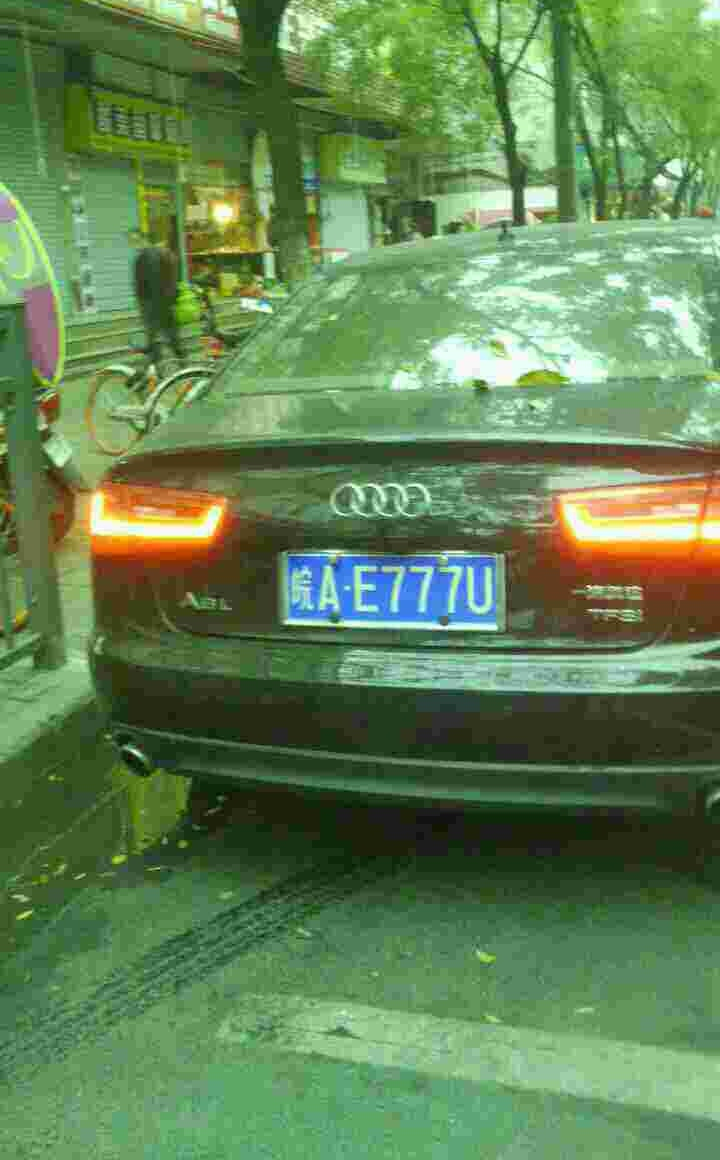license_plate: (279, 552, 498, 628)
